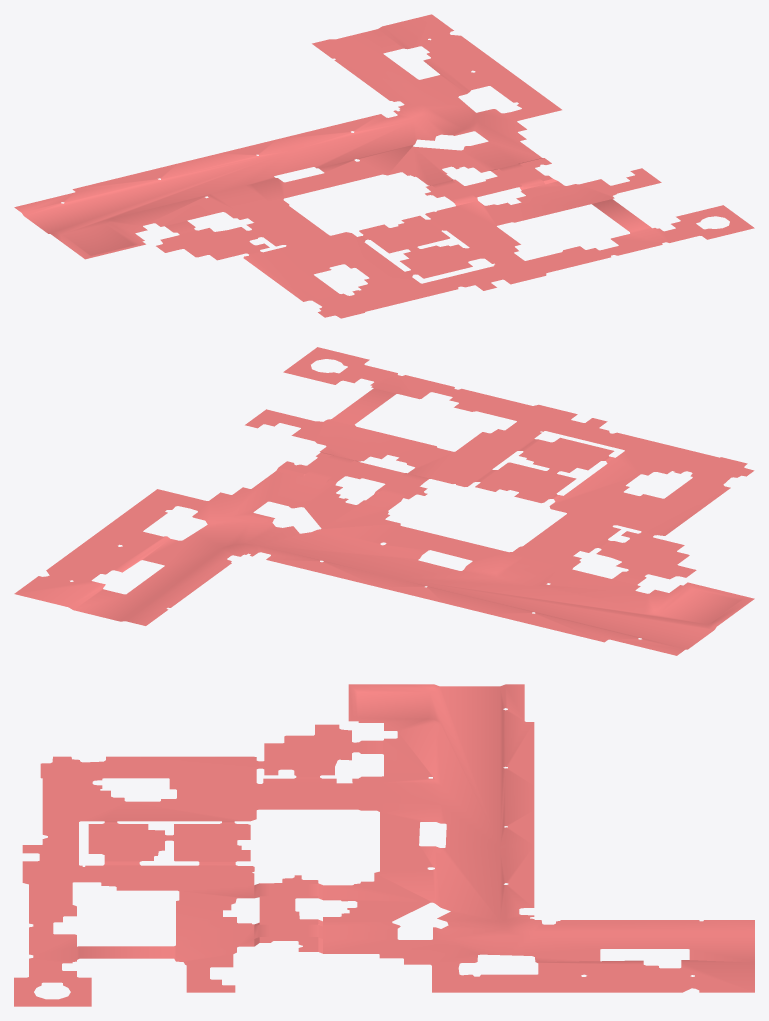
The model's file is Monster_SpawnPoint_DOCK.fbx.
3 views of the same model, one above another, from view 1: azimuth 30°, elevation 25°; view 2: azimuth 150°, elevation 25°; view 3: azimuth 270°, elevation 25° (orthographic). The views are drawn at different scales.
Visible parts, largest first — view 1: Harbor; view 2: Harbor; view 3: Harbor.
Boxes of the visible parts, x1,y1,x2,y2 form: Harbor: (14,14,754,318); Harbor: (14,347,754,655); Harbor: (14,684,754,1006).
Bounding box in the file's own units: 71.51 × 0.4 × 69.52.
